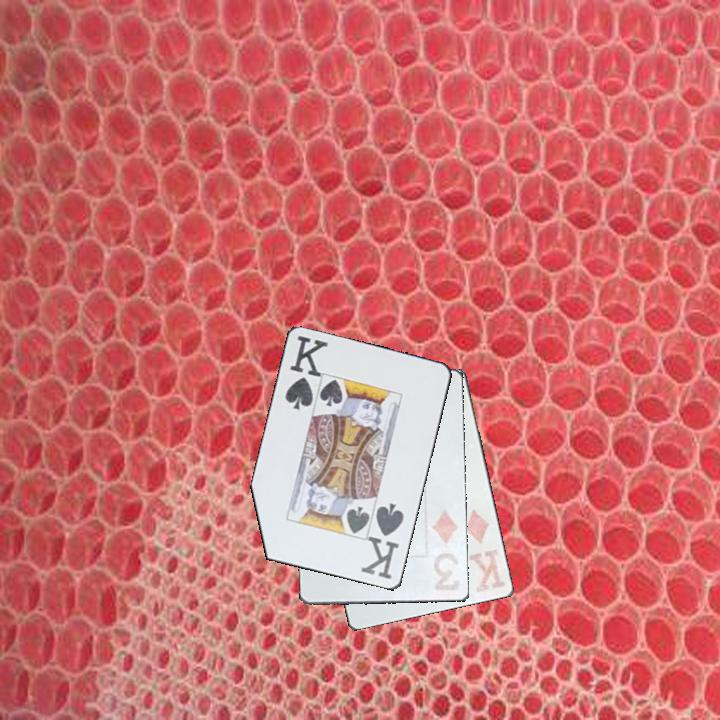3d: (425, 506, 463, 596)
Kd: (461, 506, 509, 596)
Ks: (360, 499, 407, 583), (282, 332, 329, 413)
